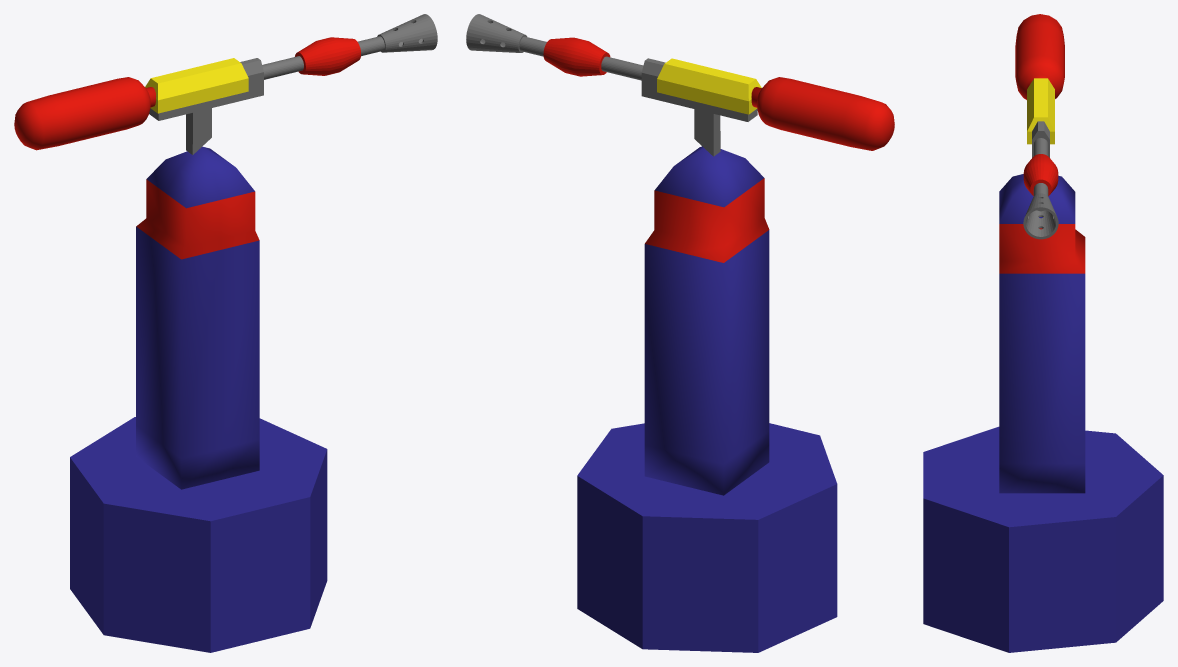
File: flamethrower.fbx
3 views of the same model, side by side, from view 1: azimuth 30°, elevation 25°; view 2: azimuth 150°, elevation 25°; view 3: azimuth 270°, elevation 25° (orthographic). The views are drawn at different scales.
Parts seen in each view (by area): view 1: Flamethrower; view 2: Flamethrower; view 3: Flamethrower.
Boxes of the visible parts, x1,y1,x2,y2 form: Flamethrower: (14,14,437,652); Flamethrower: (466,14,894,652); Flamethrower: (923,14,1163,652).
Size of the model in its own units: 177 by 220 by 94.1.
